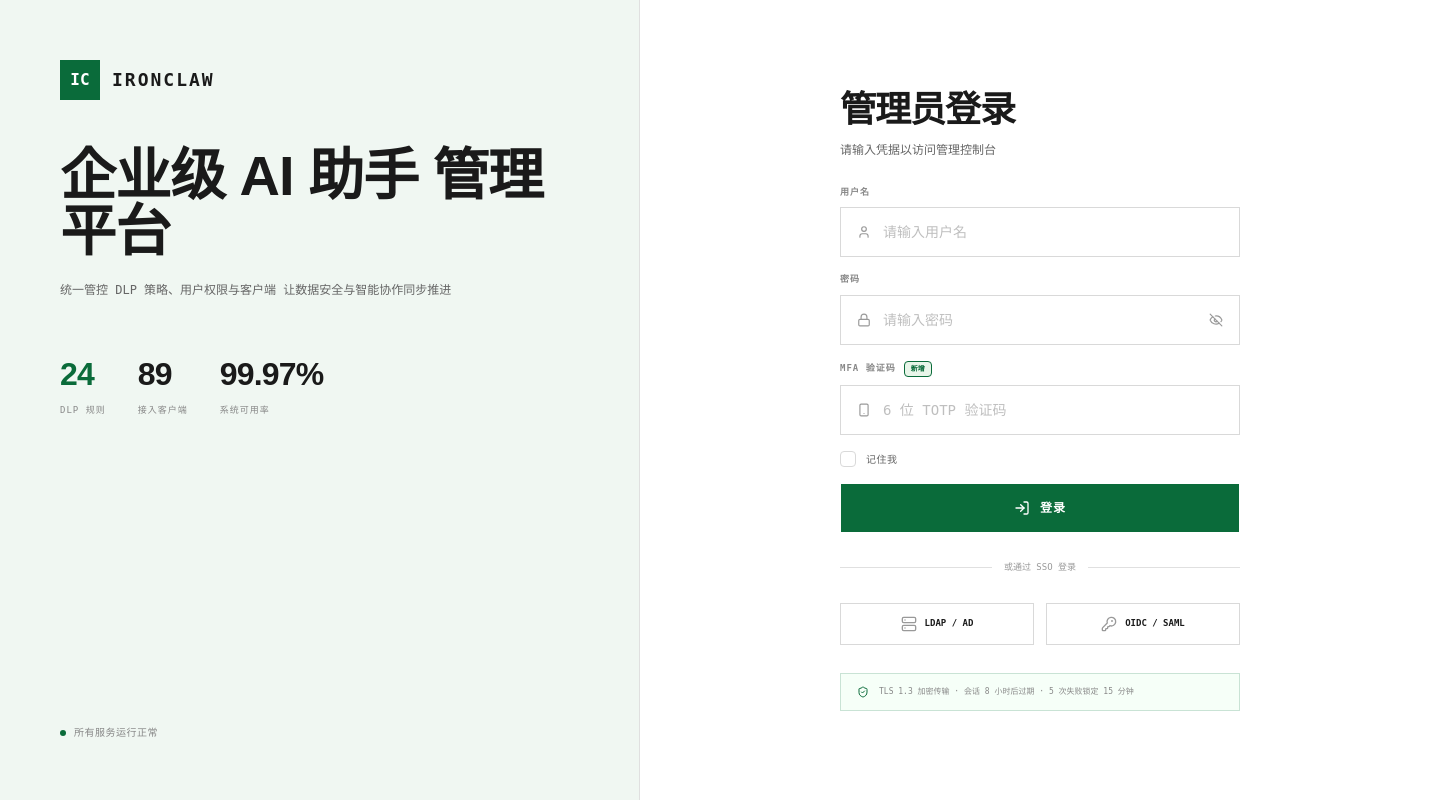
Test: 认证登录 › 失败路径 › 空密码提交应显示错误
The image size is (1440, 800).
Type "admin" into the field with placeholder "请输入用户名". click: (1053,232)
box: [883,222,1223,242]
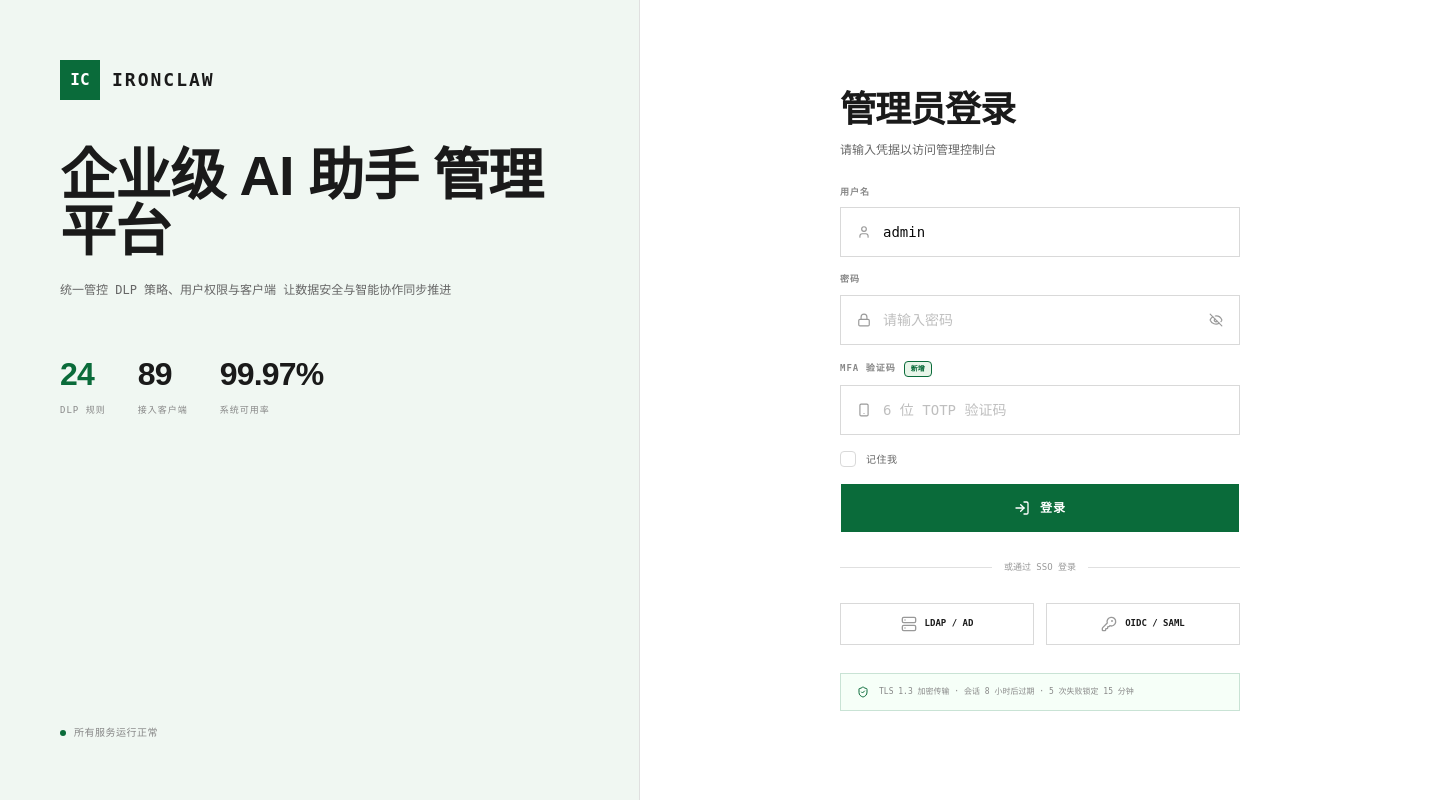
Click the submit button. click: (1040,508)
box: [840,483,1240,533]
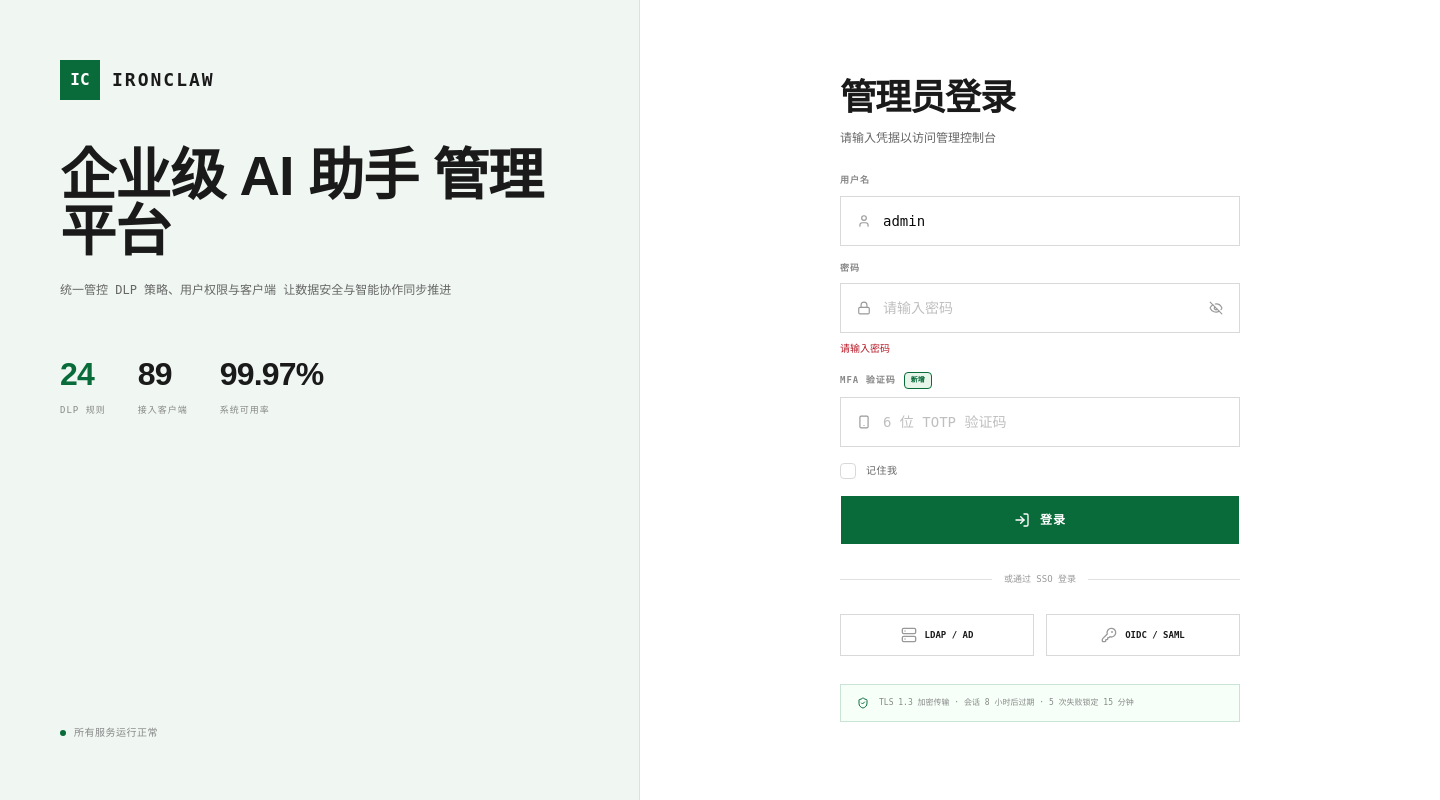
Result: the text "请输入密码" is shown at [840,343,890,354]
